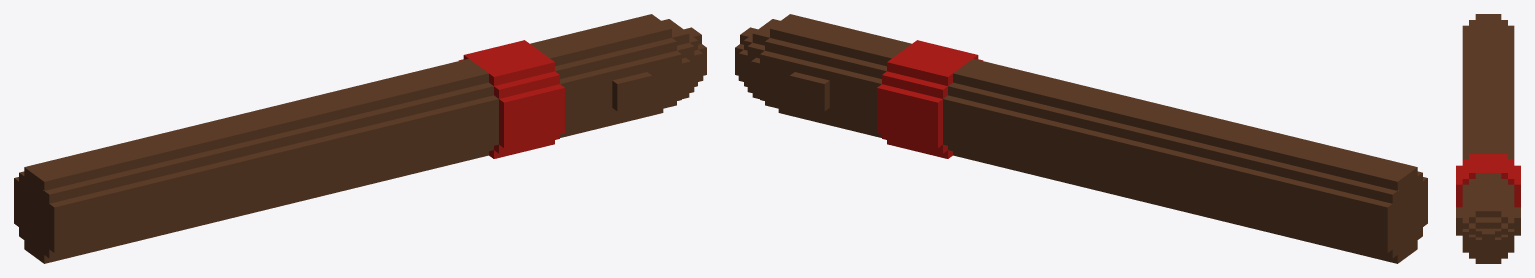
The model's file is cigar.glb.
The picture shows the model from 3 angles, left to right: view 1: azimuth 30°, elevation 25°; view 2: azimuth 150°, elevation 25°; view 3: azimuth 270°, elevation 25°; orthographic projection. The views are drawn at different scales.
Visible parts, largest first — view 1: cigar:compound; view 2: cigar:compound; view 3: cigar:compound.
Part boxes in pixels (left/top/right/bottom): cigar:compound: left=14, top=14, right=706, bottom=263; cigar:compound: left=735, top=14, right=1427, bottom=263; cigar:compound: left=1456, top=14, right=1520, bottom=263.
Size of the model in its own units: 0.152 by 0.018 by 0.02.
